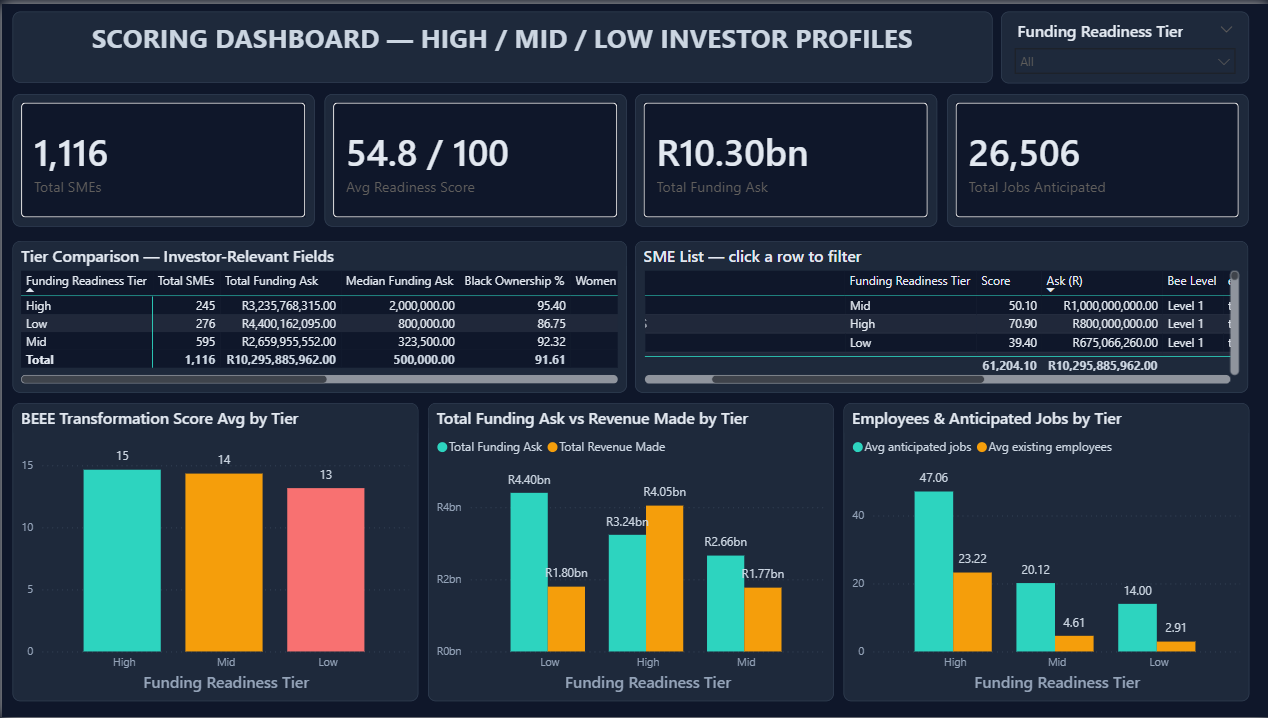

Layout of this report page (visuals, bound fields, positions):
{"tool":"powerbi","page":{"name":"Funding Readiness Tiers","canvas":[1280,720],"ordinal":1},"visuals":[{"type":"textbox","box":[9.9,8.1,990.2,71.8],"z":0},{"type":"slicer","fields":{"Values":["Funding Readiness.readiness_tier"]},"box":[1009.1,8.1,250.5,71.8],"z":1000},{"type":"cardVisual","fields":{"Data":["Clean Data.KPI Total SMEs"]},"box":[9.9,91.5,305.4,134.2],"z":2000},{"type":"cardVisual","fields":{"Data":["Clean Data.KPI Avg Score"]},"box":[325,91.5,305.4,134.2],"z":3000},{"type":"cardVisual","fields":{"Data":["Clean Data.KPI Total Ask"]},"box":[640.1,91.5,305.4,134.2],"z":4000},{"type":"cardVisual","fields":{"Data":["Funding Readiness.KPI Jobs"]},"box":[955.3,91.5,304.4,134.2],"z":5000},{"type":"pivotTable","title":"Tier Comparison — Investor-Relevant Fields","fields":{"Rows":["Funding Readiness.readiness_tier"],"Values":["Funding Readiness.Total SMEs","Funding Readiness.Total Funding Ask","Funding Readiness.Median Funding Ask","Avg(Funding Readiness.black_ownership_pct)","Avg(Funding Readiness.women_ownership_pct)","Avg(Funding Readiness.disability_ownership_pct)","Avg(Funding Readiness.youth_ownership_pct)","Funding Readiness.Avg Readiness Score"]},"box":[9.9,238.8,620.3,153.5],"z":6000},{"type":"clusteredBarChart","title":"BEEE Transformation Score by Tier","fields":{"Category":["Funding Readiness.readiness_tier"],"Y":["Sum(Funding Readiness.pts_transformation)"]},"box":[9.9,403.1,410.3,301.6],"z":7000},{"type":"clusteredColumnChart","title":"Median Ask-to-Revenue Ratio by Tier (sweet spot 0.5-5x)","fields":{"Category":["Funding Readiness.readiness_tier"],"Y":["Median(Funding Readiness.ask_to_revenue_ratio)"]},"box":[430,403.1,410.3,301.6],"z":8000},{"type":"tableEx","title":"SME List — click a row to filter","fields":{"Values":["Funding Readiness.company_name","Funding Readiness.Funding Readiness Tier","Sum(Funding Readiness.funding_readiness_score)","Sum(Funding Readiness.funding_ask_zar)","Clean Data.bee_level_raw","Clean Data.email","Clean Data.contact_number","Clean Data.contact_name"]},"box":[640.1,238.8,619.5,153.5],"z":9000},{"type":"clusteredColumnChart","title":"Employees & Anticipated Jobs by Tier","fields":{"Category":["Funding Readiness.readiness_tier"],"Y":["Avg(Funding Readiness.jobs_anticipated)","Avg(Funding Readiness.employees)"]},"box":[849.3,403.1,410.3,301.6],"z":10000}]}

Visuals, with their boxes in screenshot pixels (x1, y1, x2, y2), scaled from the page's 1280x720 canvas onto the 1268x718 screenshot:
textbox: <bbox>10, 8, 991, 80</bbox>
slicer - Funding Readiness.readiness_tier: <bbox>1000, 8, 1248, 80</bbox>
cardVisual - Clean Data.KPI Total SMEs: <bbox>10, 91, 312, 225</bbox>
cardVisual - Clean Data.KPI Avg Score: <bbox>322, 91, 624, 225</bbox>
cardVisual - Clean Data.KPI Total Ask: <bbox>634, 91, 937, 225</bbox>
cardVisual - Funding Readiness.KPI Jobs: <bbox>946, 91, 1248, 225</bbox>
"Tier Comparison — Investor-Relevant Fields" pivotTable: <bbox>10, 238, 624, 391</bbox>
"BEEE Transformation Score by Tier" clusteredBarChart: <bbox>10, 402, 416, 703</bbox>
"Median Ask-to-Revenue Ratio by Tier (sweet spot 0.5-5x)" clusteredColumnChart: <bbox>426, 402, 832, 703</bbox>
"SME List — click a row to filter" tableEx: <bbox>634, 238, 1248, 391</bbox>
"Employees & Anticipated Jobs by Tier" clusteredColumnChart: <bbox>841, 402, 1248, 703</bbox>
